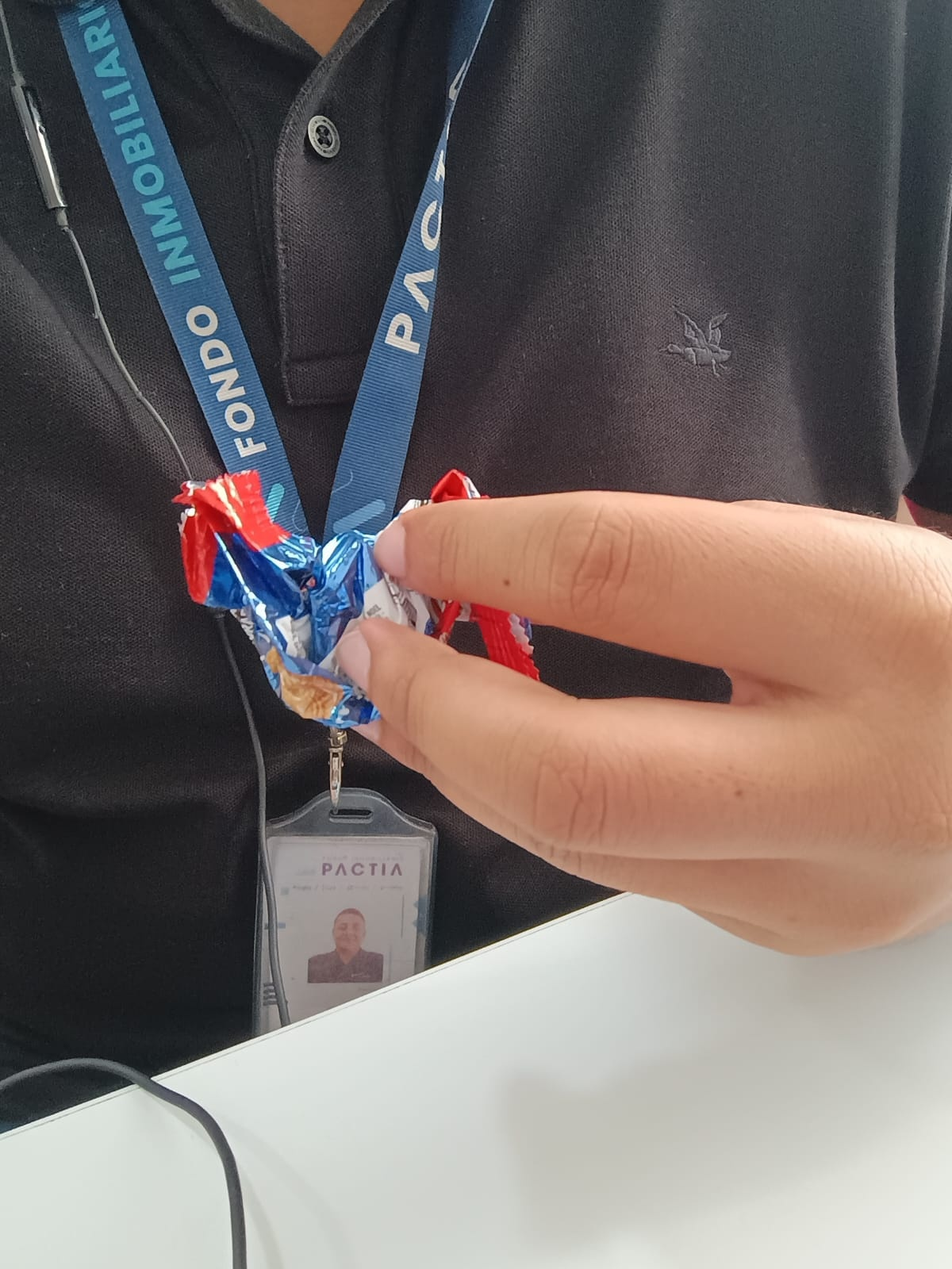Ordinario: (177, 474, 423, 729)
